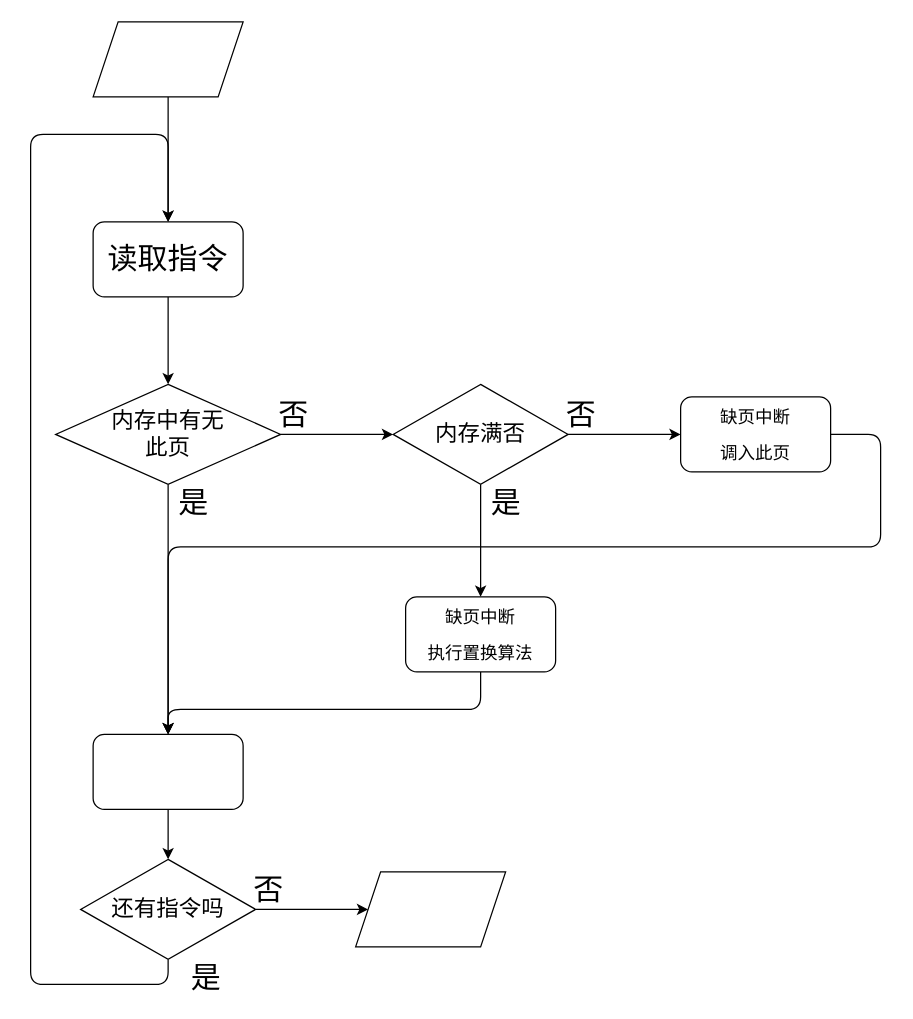
Some shapes in this 913 by 1019 pixel diagram are drawn without their labels. Here are the shapes that lost their labels. From the top down, the centre of each, then its label:
(167,59): 开始
(167,771): 执行 更新使用时间
(430,909): 结束
